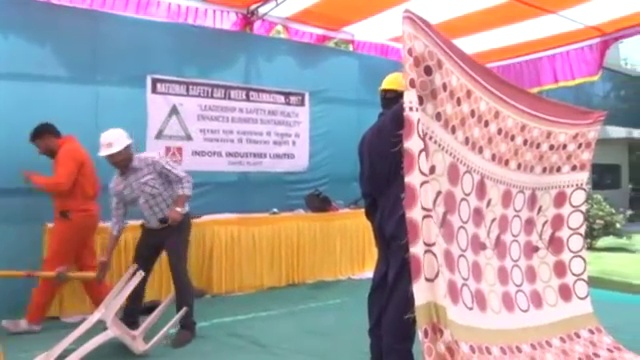helmet: (95, 127, 134, 157), (378, 68, 407, 93)
helmet_off: (28, 121, 65, 157)
helmet_on: (94, 126, 137, 175), (378, 68, 408, 115)
person: (4, 121, 116, 340), (92, 125, 197, 350), (358, 69, 419, 360)
